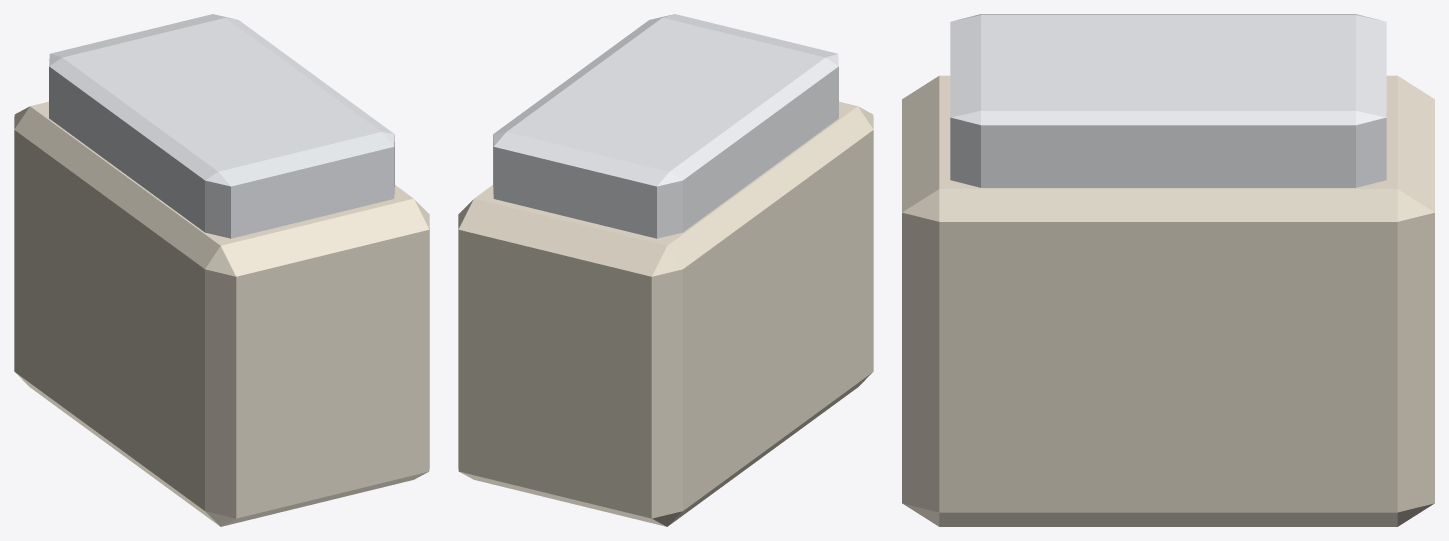
Rendered from b17_ventilated_pet_carrier.glb.
The picture shows the model from 3 angles, left to right: view 1: azimuth 30°, elevation 25°; view 2: azimuth 150°, elevation 25°; view 3: azimuth 270°, elevation 25°; orthographic projection. The views are drawn at different scales.
Parts seen in each view (by area): view 1: b17_ventilated_pet_carrier; view 2: b17_ventilated_pet_carrier; view 3: b17_ventilated_pet_carrier.
Part boxes in pixels (<box>): b17_ventilated_pet_carrier: <box>14,14,429,526</box>; b17_ventilated_pet_carrier: <box>458,14,873,526</box>; b17_ventilated_pet_carrier: <box>902,14,1434,526</box>.
Size of the model in its own units: 0.34 by 0.49 by 0.581.
